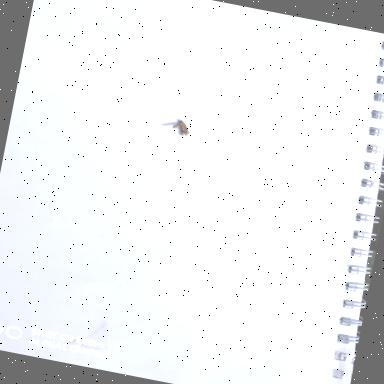pbw: (176, 119, 192, 138)
